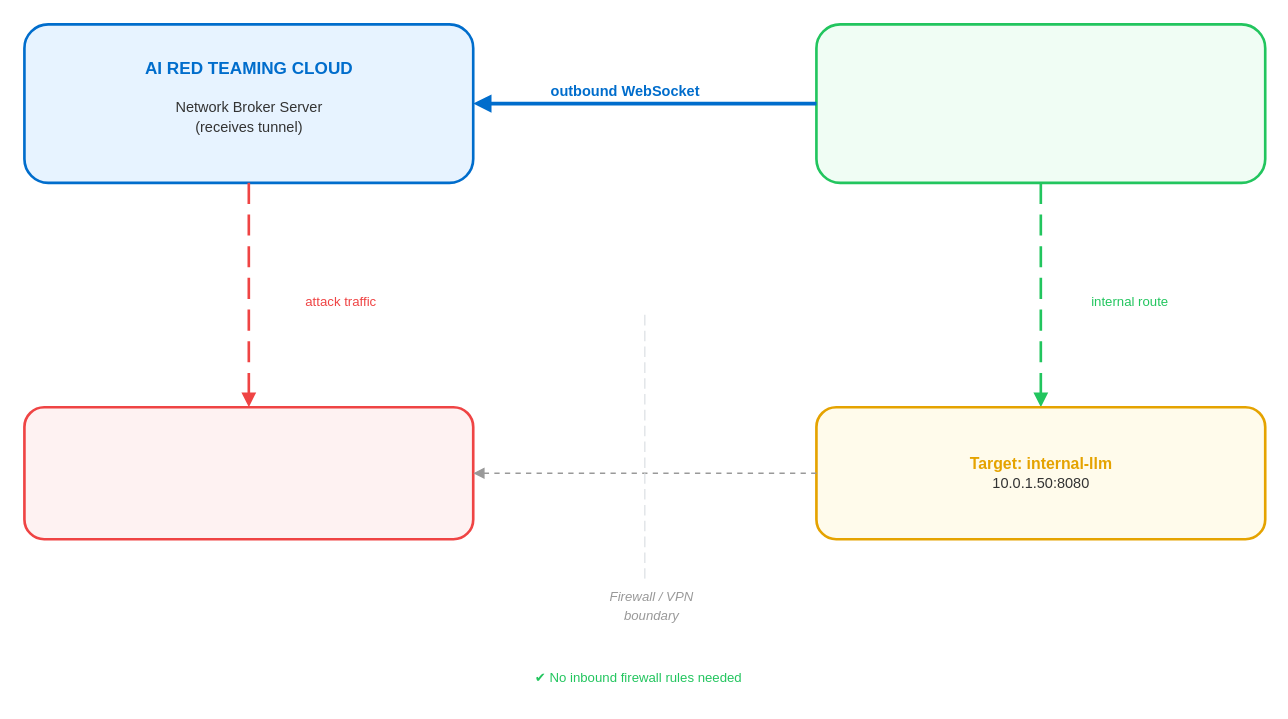
The diagram is 1288 pixels wide and 719 high, and some of its shapes have lost their labels. Here are the shapes that lost their labels. From the top down, the box of each, then its label:
(814, 22, 1266, 183): CUSTOMER K8S CLUSTER Network Channel Client (initiates tunnel)
(22, 405, 474, 540): PRIVATE AI SYSTEM (not internet-accessible)
